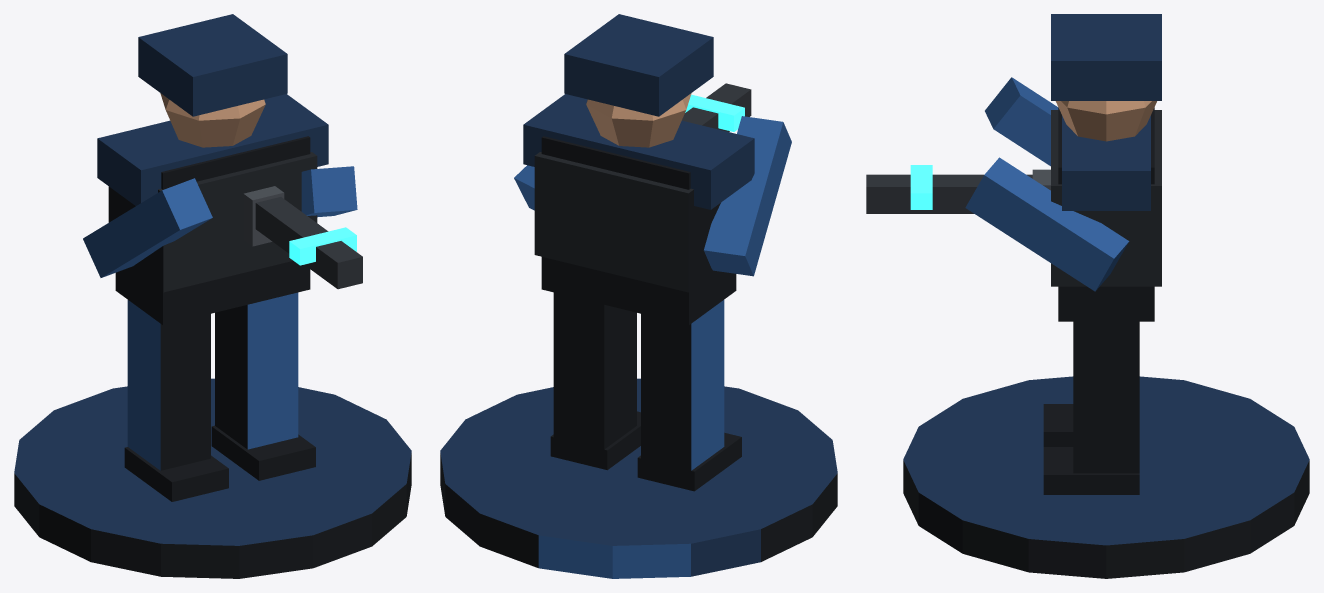
Rendered from police_sheriff.glb.
3 views of the same model, side by side, from view 1: azimuth 30°, elevation 25°; view 2: azimuth 150°, elevation 25°; view 3: azimuth 270°, elevation 25° (orthographic).
Visible parts, largest first — view 1: police_sheriff; view 2: police_sheriff; view 3: police_sheriff.
Part boxes in pixels (x1,y1,x2,y2): police_sheriff: (14, 14, 411, 578); police_sheriff: (440, 14, 837, 578); police_sheriff: (866, 14, 1309, 578).
Size of the model in its own units: 1.1 by 1.36 by 1.2.
